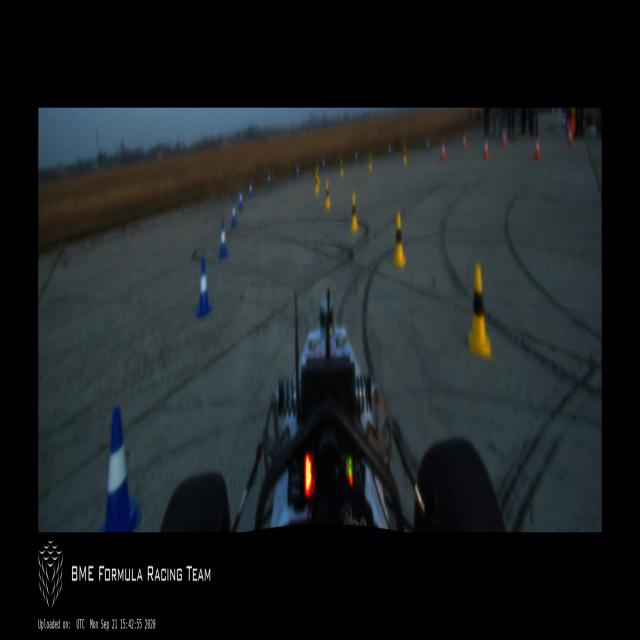blue_cone: (98, 405, 142, 530), (194, 256, 213, 320), (218, 218, 228, 260), (230, 197, 237, 230), (247, 176, 254, 201), (238, 188, 244, 213), (295, 162, 300, 180), (266, 171, 271, 188), (322, 156, 326, 172), (354, 148, 358, 164), (388, 143, 392, 159), (426, 138, 430, 153)
orange_cone: (533, 133, 541, 162), (483, 133, 490, 162), (440, 136, 447, 163), (567, 123, 574, 149), (501, 126, 508, 149), (461, 130, 468, 152)
yellow_cone: (467, 263, 492, 359), (392, 212, 408, 270), (349, 192, 359, 235), (324, 178, 331, 212), (338, 158, 345, 179), (314, 172, 320, 196), (402, 144, 408, 167), (367, 152, 373, 173), (315, 164, 320, 188)
